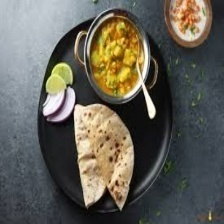roti: (73, 104, 135, 212)
